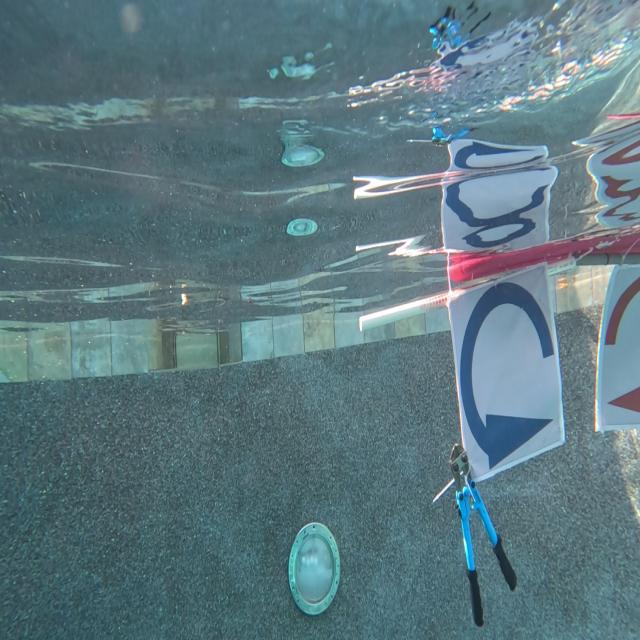blue_side: (446, 265, 568, 478)
red_side: (594, 262, 640, 427)
